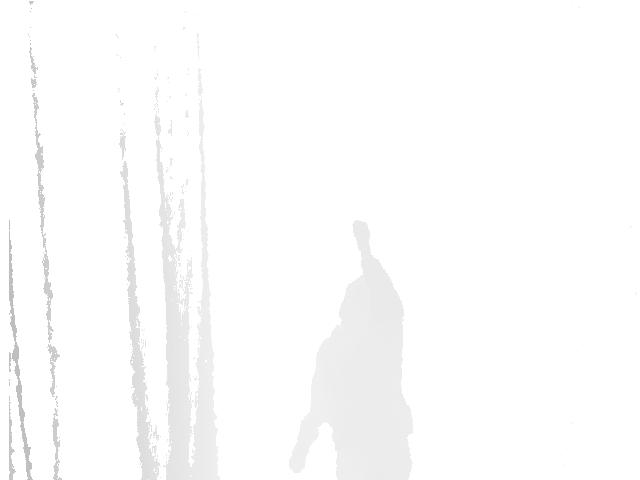hand: (353, 220, 371, 262)
head: (338, 275, 369, 320)
person: (289, 220, 414, 479)
